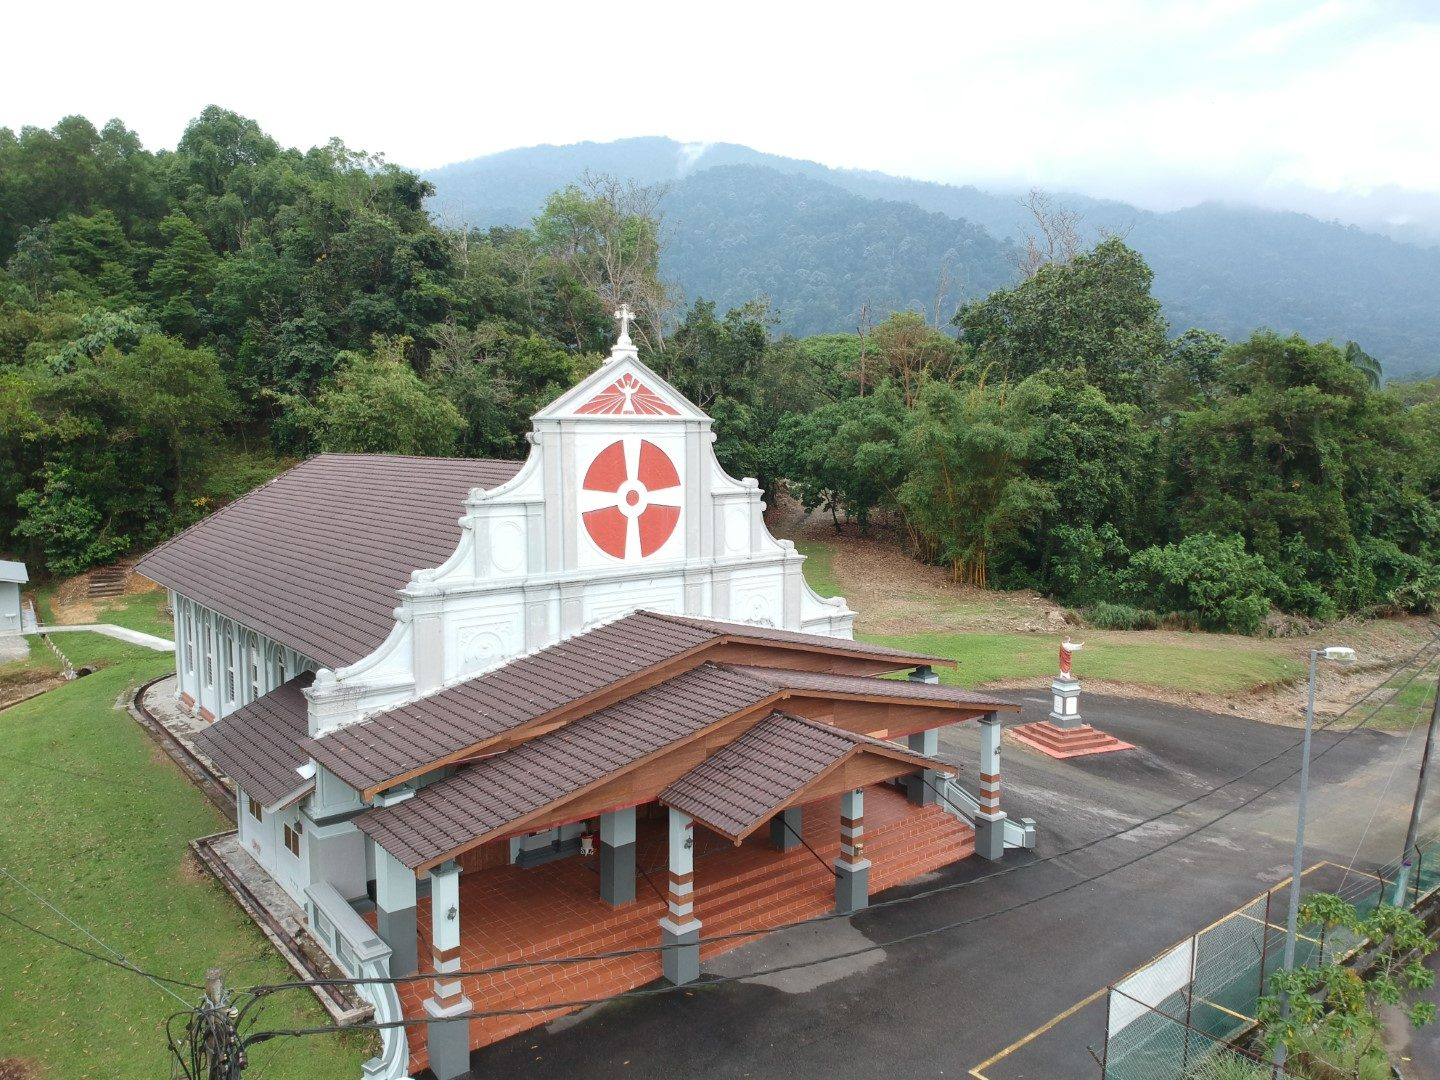Church: (173, 292, 1014, 988)
